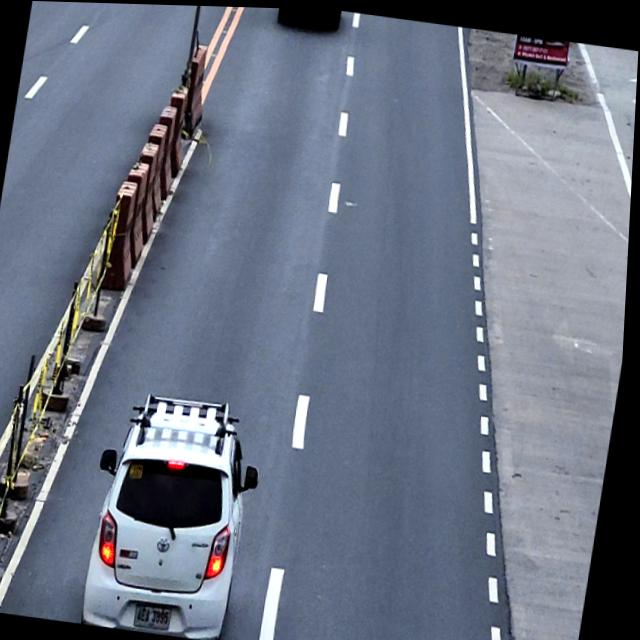Car: (80, 384, 274, 640)
License-Plate: (138, 599, 180, 630)
